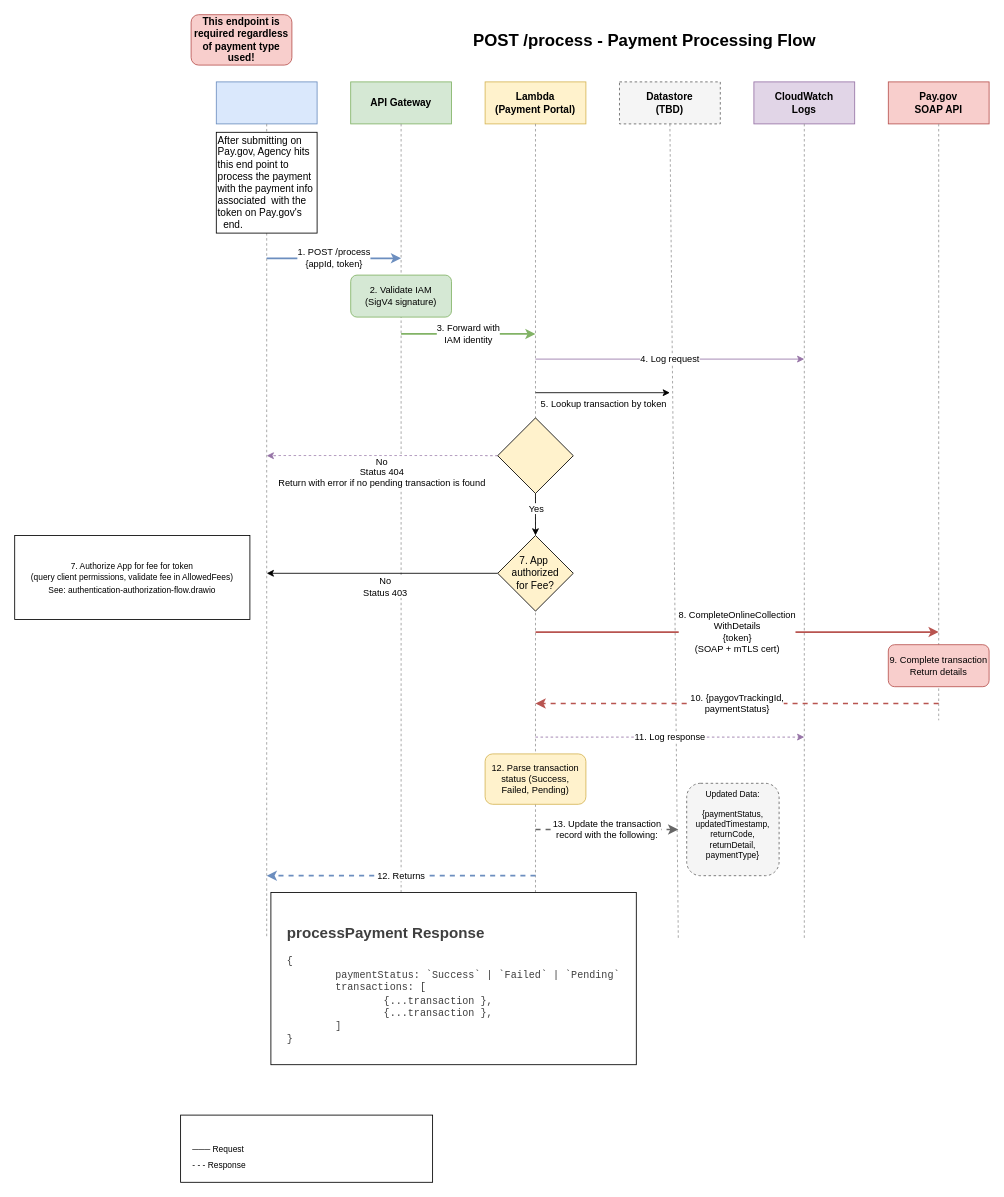
Image size: 1004x1197. Some labels were removed from this diagram. Here are the shapes that lost their labels. From the top down, the box of each, then its label:
(215, 81, 317, 124): Client App (DAWSON)
(497, 417, 573, 494): 6. transaction found?
(180, 1114, 433, 1182): Legend
